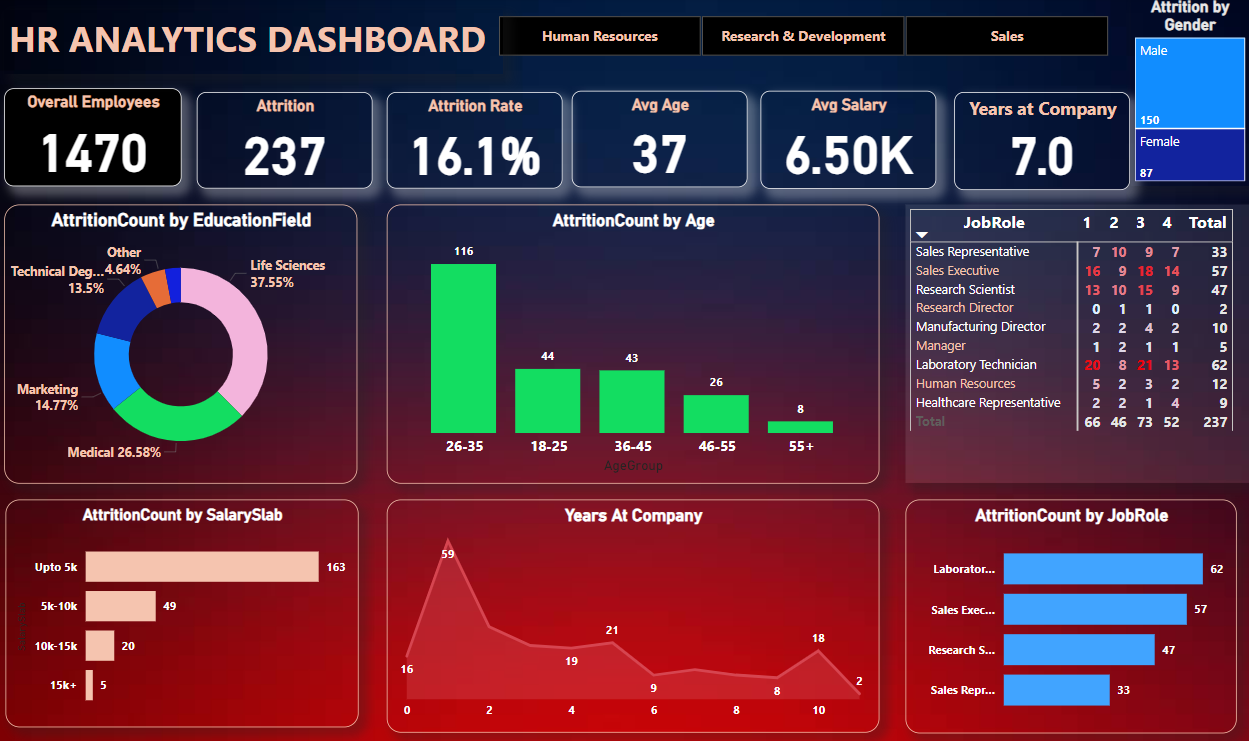

This screenshot's page, from the dashboard's own definition file:
{"tool":"powerbi","page":{"name":"Page 1","canvas":[1327,791],"ordinal":0},"visuals":[{"type":"card","title":"Overall Employees","fields":{"Values":["Count(HR_Analytics.EmpID)"]},"box":[7.1,96.7,187.8,103.9],"z":0},{"type":"card","title":"Years at Company","fields":{"Values":["Avg(HR_Analytics.YearsAtCompany)"]},"box":[1014.3,101,186.4,103.9],"z":1000},{"type":"card","title":"Avg Age","fields":{"Values":["Avg(HR_Analytics.Age)"]},"box":[608.9,99.6,186.4,102.4],"z":2000},{"type":"donutChart","title":" AttritionCount by EducationField","fields":{"Category":["HR_Analytics.EducationField"],"Y":["Sum(HR_Analytics.AttritionCount)"]},"box":[7.1,220.5,374.1,295.9],"z":3000},{"type":"pivotTable","fields":{"Rows":["HR_Analytics.JobRole"],"Columns":["HR_Analytics.JobSatisfaction"],"Values":["Sum(HR_Analytics.AttritionCount)"]},"box":[961.7,220.5,365.6,253.2],"z":4000},{"type":"treemap","title":"Attrition by Gender","fields":{"Group":["HR_Analytics.Gender"],"Values":["Sum(HR_Analytics.AttritionCount)"]},"box":[1200.7,0,126.6,200.6],"z":5000},{"type":"slicer","fields":{"Values":["HR_Analytics.Department"]},"box":[505,13.3,695.8,55.7],"z":6000},{"type":"card","title":"Attrition","fields":{"Values":["Sum(HR_Analytics.AttritionCount)"]},"box":[210.5,101,186.4,102.4],"z":7000},{"type":"card","title":"Attrition Rate","fields":{"Values":["HR_Analytics.AttritionRate"]},"box":[412.6,101,186.4,102.4],"z":8000},{"type":"card","title":" Avg Salary","fields":{"Values":["Avg(HR_Analytics.MonthlyIncome)"]},"box":[808,99.6,186.4,103.9],"z":9000},{"type":"barChart","title":" AttritionCount by SalarySlab","fields":{"Category":["HR_Analytics.SalarySlab"],"Y":["Sum(HR_Analytics.AttritionCount)"]},"box":[8.5,533.5,374.1,241.8],"z":10000},{"type":"columnChart","title":" AttritionCount by Age","fields":{"Category":["HR_Analytics.AgeGroup"],"Y":["Sum(HR_Analytics.AttritionCount)"]},"box":[412.6,220.5,522.1,295.9],"z":11000},{"type":"barChart","title":" AttritionCount by JobRole","fields":{"Category":["HR_Analytics.JobRole"],"Y":["Sum(HR_Analytics.AttritionCount)"]},"box":[961.7,496.5,351.4,284.5],"z":12000},{"type":"areaChart","title":"  Years At Company","fields":{"Category":["HR_Analytics.YearsAtCompany"],"Y":["Sum(HR_Analytics.AttritionCount)"]},"box":[412.6,533.5,522.1,247.5],"z":13000},{"type":"textbox","box":[6.6,13.3,528.8,68.9],"z":13001}]}

Visuals, with their boxes in screenshot pixels (x1, y1, x2, y2), scaled from the page's 1327x791 canvas onto the 1249x741 screenshot:
"Overall Employees" card: detection(7, 91, 183, 188)
"Years at Company" card: detection(955, 95, 1130, 192)
"Avg Age" card: detection(573, 93, 749, 189)
" AttritionCount by EducationField" donutChart: detection(7, 207, 359, 484)
pivotTable - HR_Analytics.JobRole x HR_Analytics.JobSatisfaction: detection(905, 207, 1248, 444)
"Attrition by Gender" treemap: detection(1130, 0, 1248, 188)
slicer - HR_Analytics.Department: detection(475, 12, 1130, 65)
"Attrition" card: detection(198, 95, 374, 191)
"Attrition Rate" card: detection(388, 95, 564, 191)
" Avg Salary" card: detection(761, 93, 936, 191)
" AttritionCount by SalarySlab" barChart: detection(8, 500, 360, 726)
" AttritionCount by Age" columnChart: detection(388, 207, 880, 484)
" AttritionCount by JobRole" barChart: detection(905, 465, 1236, 732)
"  Years At Company" areaChart: detection(388, 500, 880, 732)
textbox: detection(6, 12, 504, 77)
